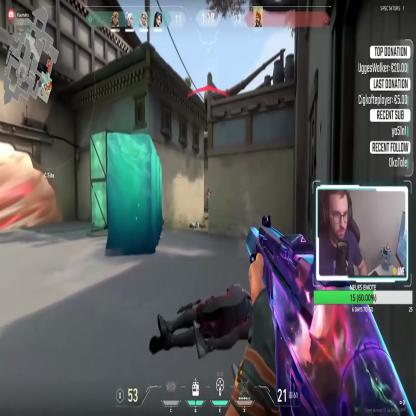enemy: (206, 190, 211, 212)
